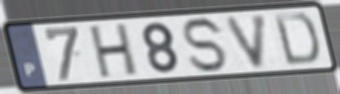7: (42, 25, 81, 82)
8: (141, 20, 182, 75)
D: (271, 11, 321, 68)
H: (88, 21, 140, 81)
S: (181, 15, 231, 75)
V: (222, 11, 271, 71)
